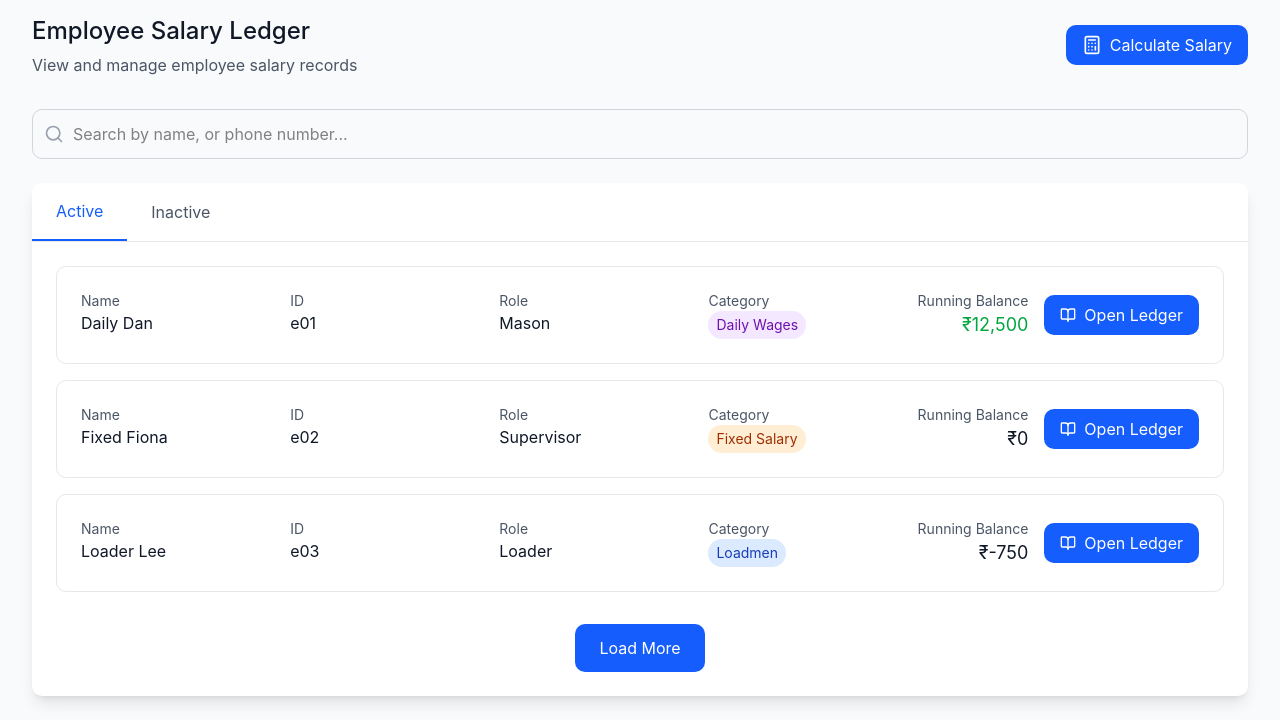
Test case: SalaryLedgerScreen › the list › adds the next page on Load More, then hides it
(page scrolled)
Expected: the text "Daily Dan" is shown, [81,313,153,333]
Step 1. Click the button "Load More" → (640, 648), box [575,624,705,672]
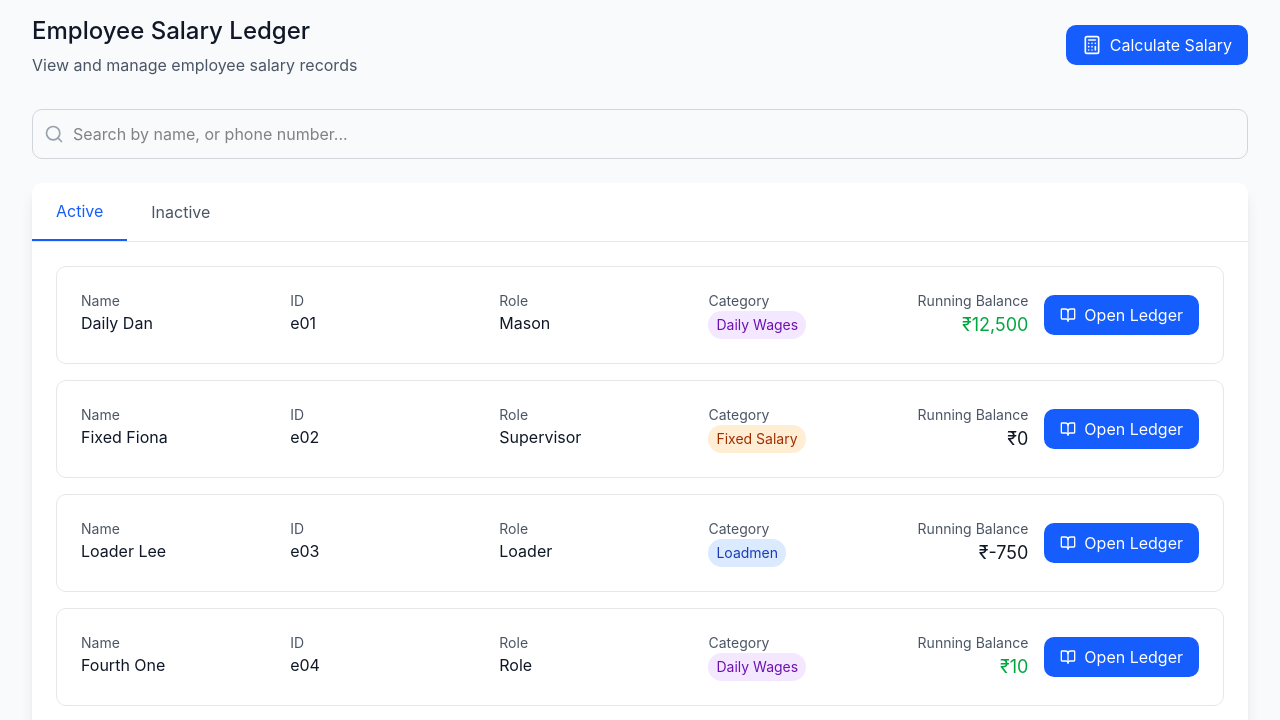
Expected: the text "Daily Dan" is shown, [81,313,153,333]
Expected: the text "Fourth One" is shown, [81,655,165,675]
Expected: the button "Load More" is gone
